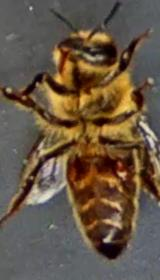varroa_mite: (106, 156, 142, 187), (59, 150, 83, 186)
